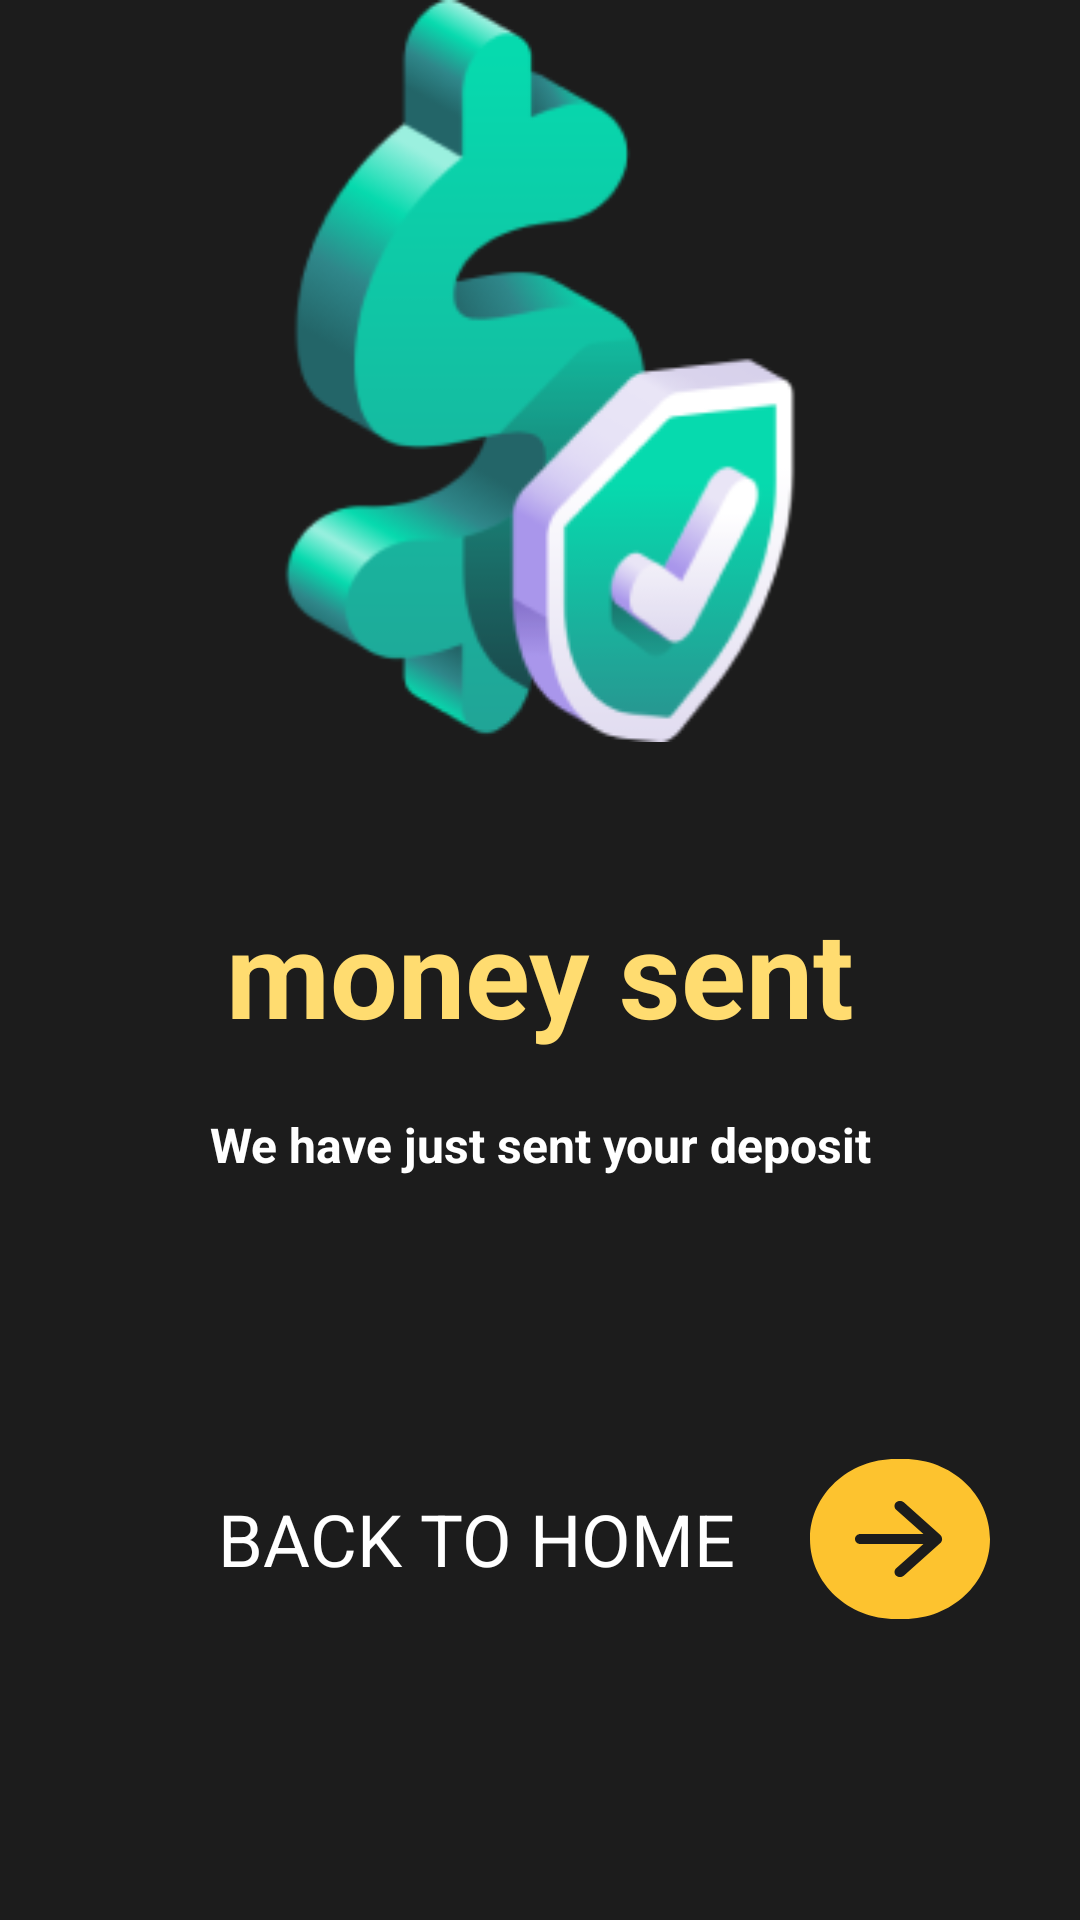

Screen size 1080*1920. Icon name, then its box in pixels as [x1, y1, x2, y2]:
clicknext: [810, 1459, 990, 1619]
